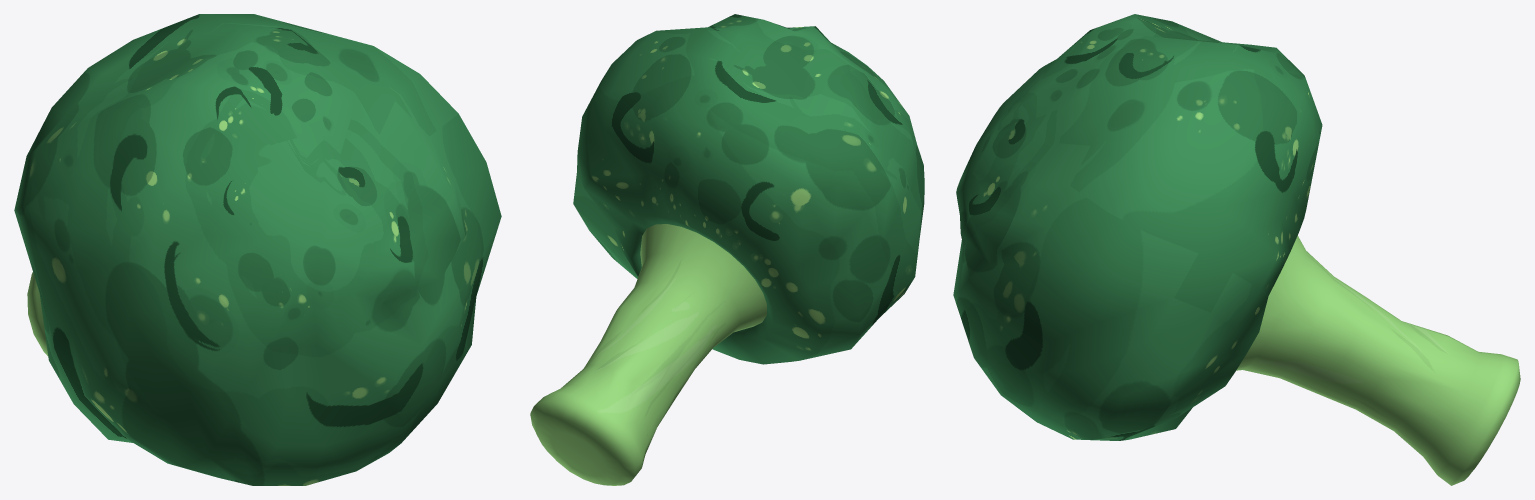
Rendered from broccoli-whole.FBX.
3 views of the same model, side by side, from view 1: azimuth 30°, elevation 25°; view 2: azimuth 150°, elevation 25°; view 3: azimuth 270°, elevation 25° (orthographic). The views are drawn at different scales.
Visible parts, largest first — view 1: Big Broccoli; view 2: Big Broccoli; view 3: Big Broccoli.
Part boxes in pixels (box(x1,y1,x2,y2)): Big Broccoli: box(14, 14, 501, 485); Big Broccoli: box(530, 14, 924, 485); Big Broccoli: box(953, 14, 1520, 485).
Size of the model in its own units: 67.67 by 73.5 by 88.28.
